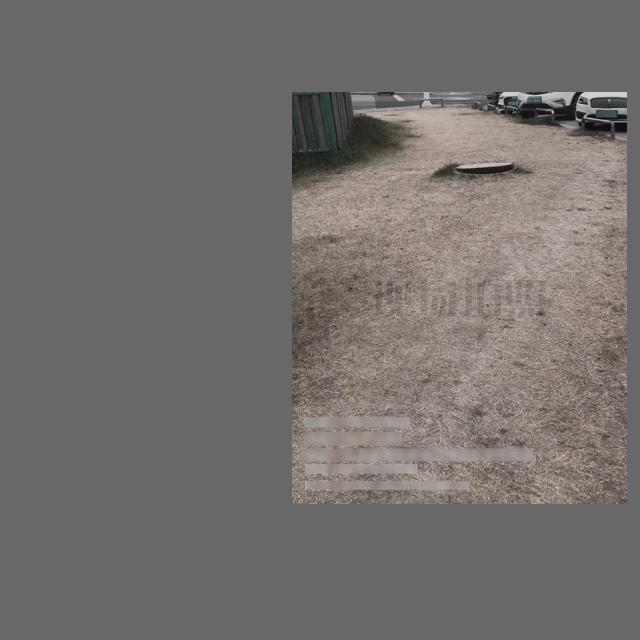uncovered: (451, 155, 519, 179)
